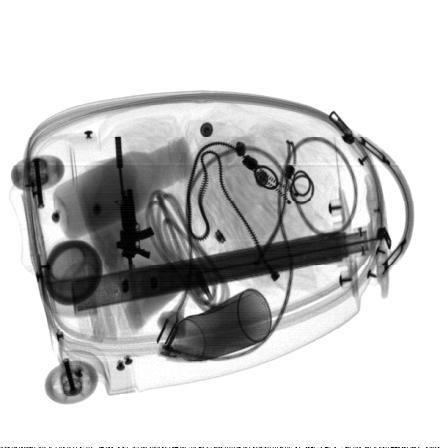Gun: (113, 135, 155, 276)
